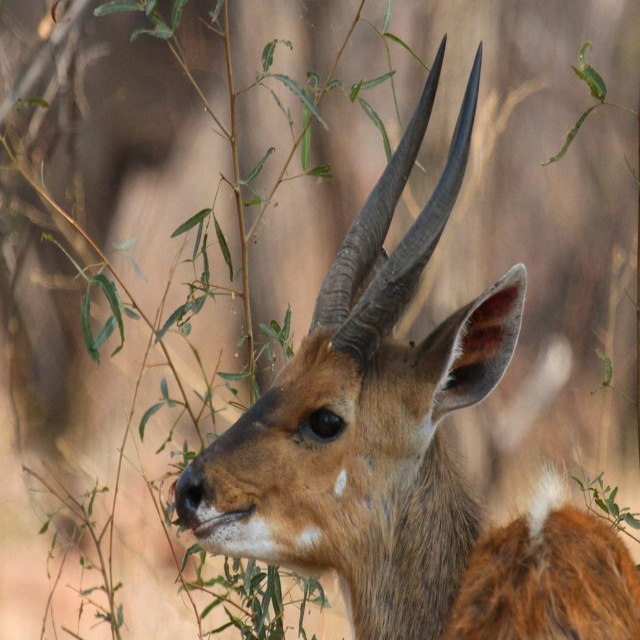Deer: (172, 38, 640, 639)
